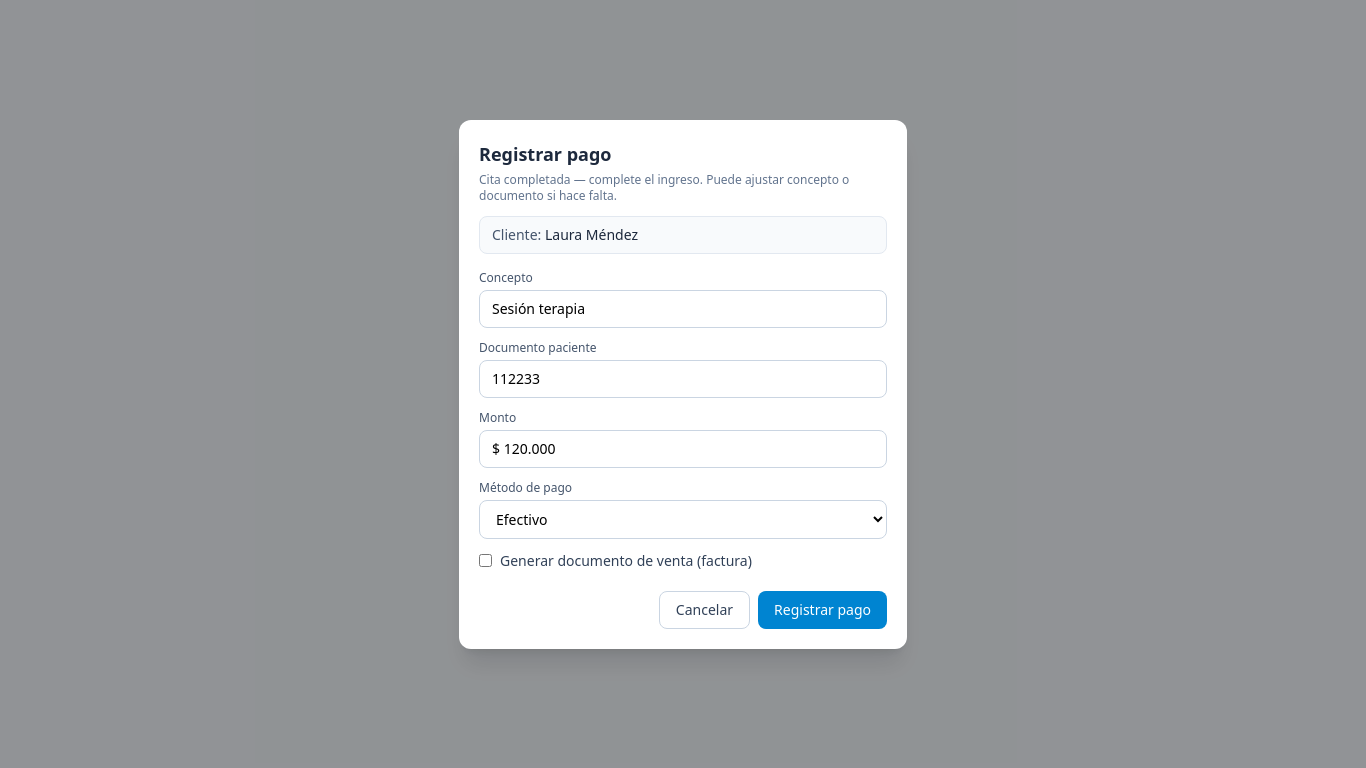
Scenario: PaymentModal › exige monto mayor que cero antes de invocar al backend
Clear the field with placeholder "$ 0" below "Monto": (683, 448) left=479, top=430, right=887, bottom=468
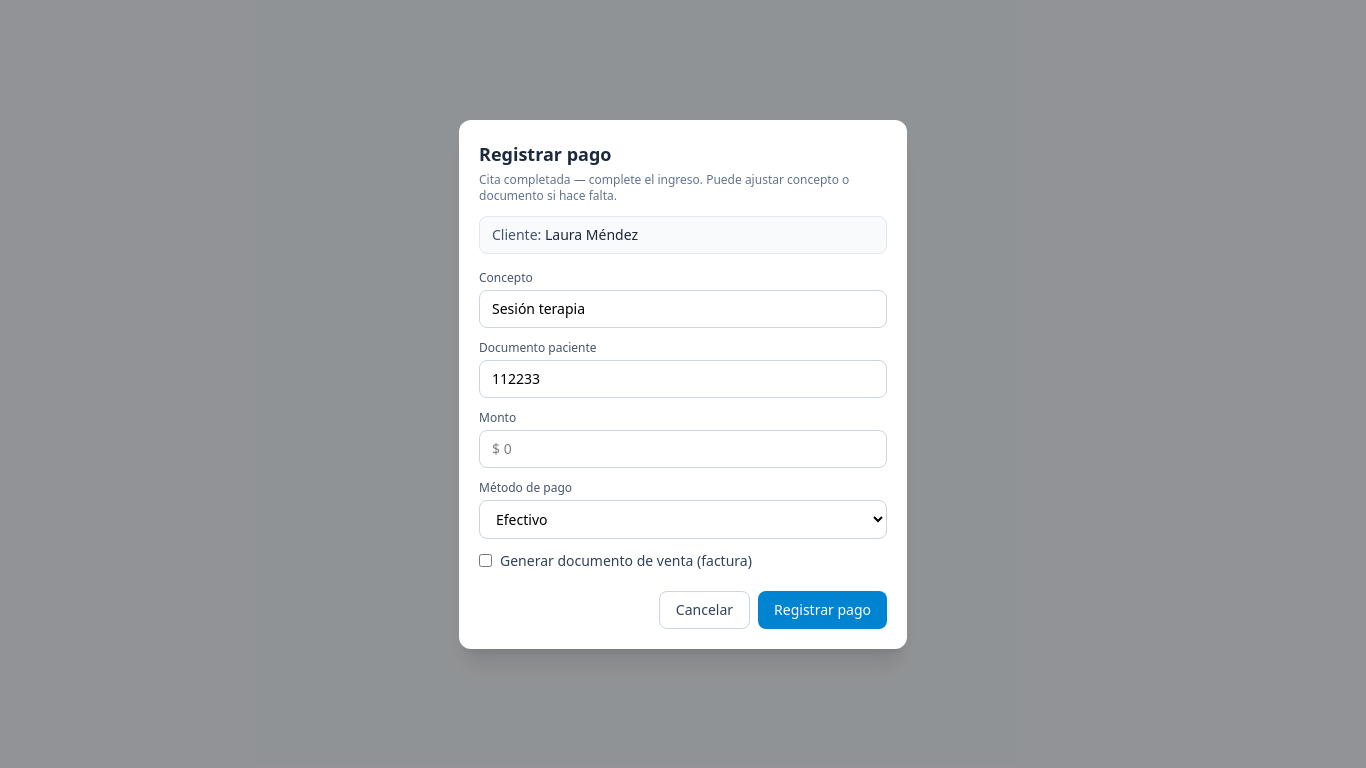
Submit the form, box left=479, top=270, right=887, bottom=628
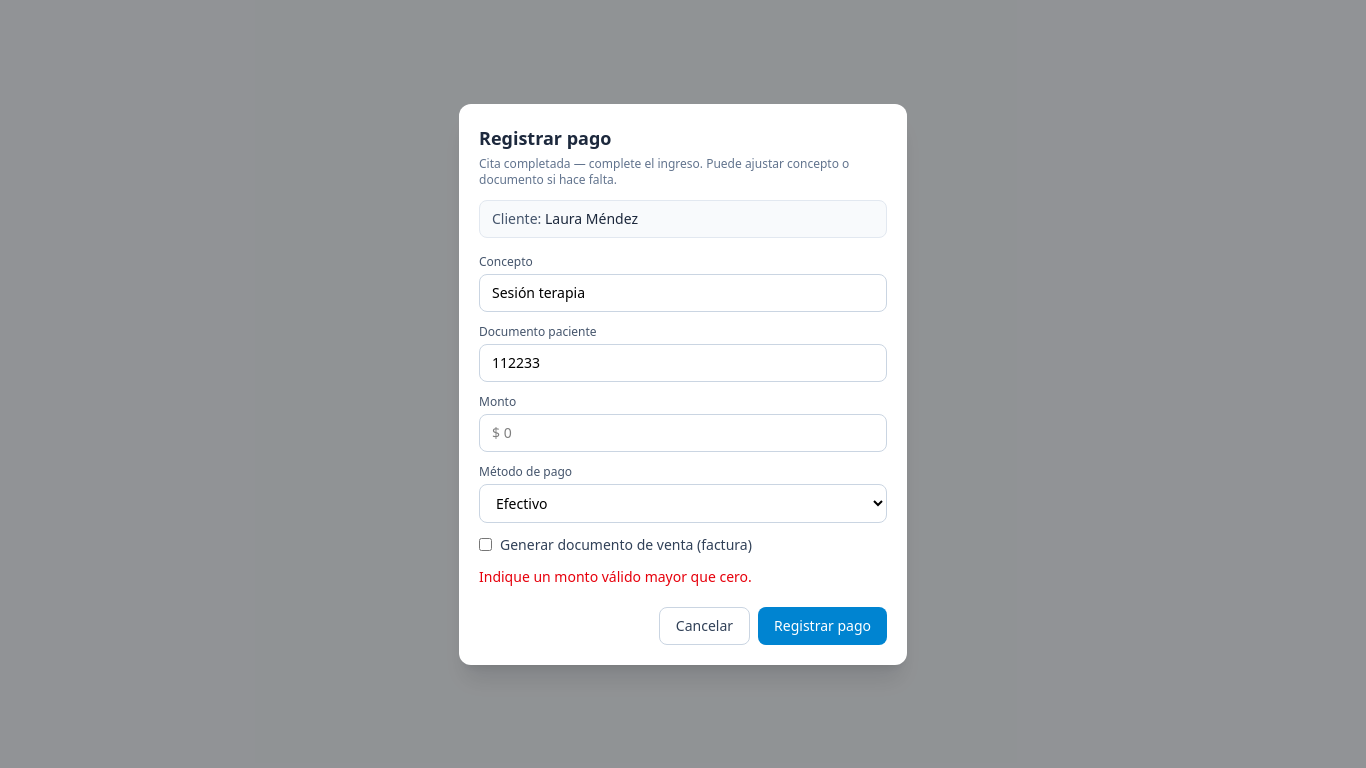
Result: the message shows "Indique un monto válido" at left=479, top=566, right=752, bottom=586
